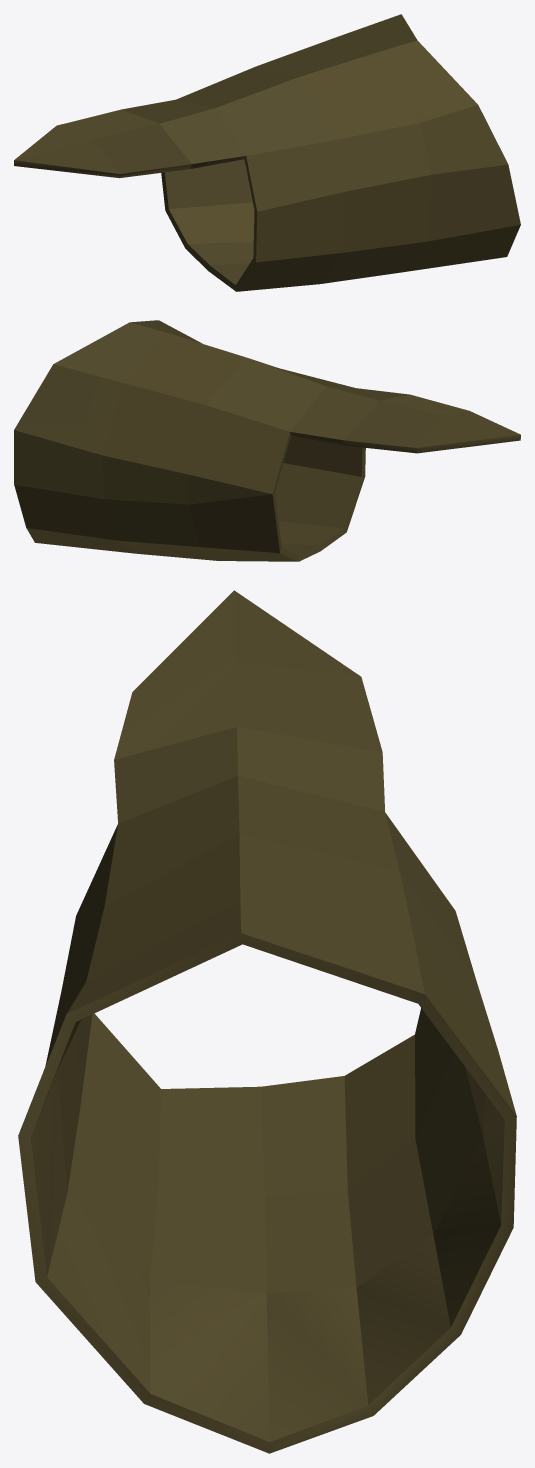
The model's file is Avambraccio_dx_5.fbx.
3 renders of one model, top to bottom at view 1: azimuth 30°, elevation 25°; view 2: azimuth 150°, elevation 25°; view 3: azimuth 270°, elevation 25°, orthographic. The views are drawn at different scales.
Parts seen in each view (by area): view 1: polySurface1.026; view 2: polySurface1.026; view 3: polySurface1.026.
Part boxes in pixels (x1,y1,x2,y2): polySurface1.026: [14, 14, 520, 291]; polySurface1.026: [14, 320, 520, 561]; polySurface1.026: [18, 590, 516, 1453].
Bounding box in the file's own units: 42.53 × 19.14 × 19.56.
